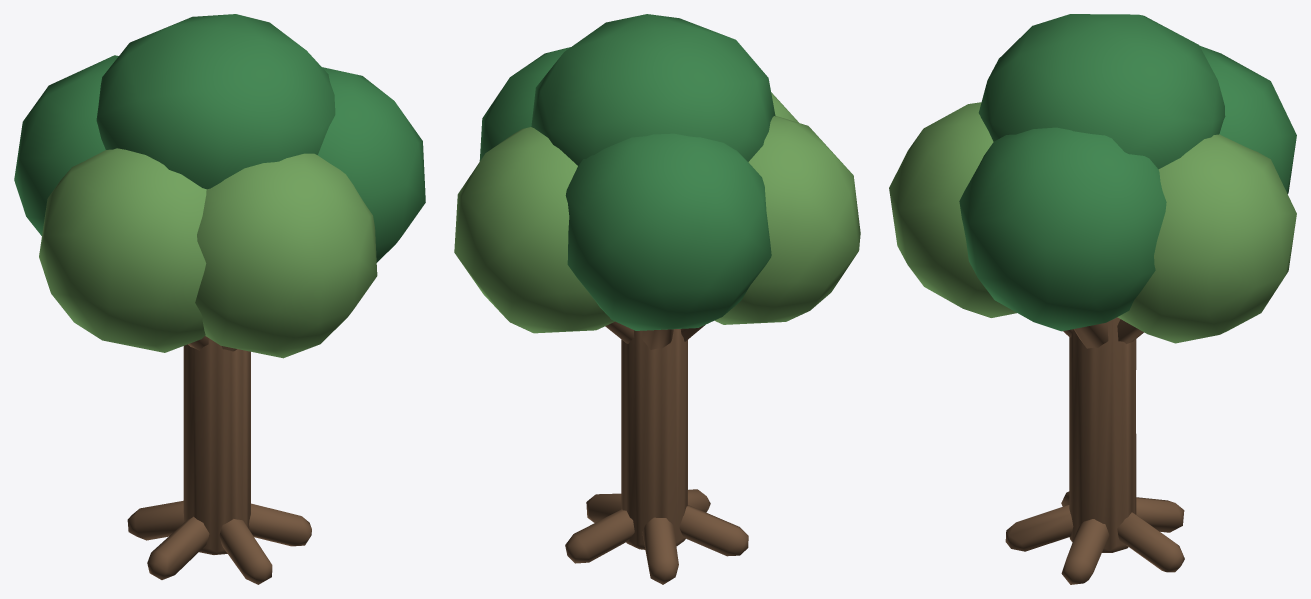
Rendered from org_oak.glb.
3 renders of one model, left to right at view 1: azimuth 30°, elevation 25°; view 2: azimuth 150°, elevation 25°; view 3: azimuth 270°, elevation 25°, orthographic.
Parts seen in each view (by area): view 1: Foliage, Trunk; view 2: Foliage, Trunk; view 3: Foliage, Trunk.
Boxes of the visible parts, <box> form: Foliage: <box>14,14,425,358</box>; Trunk: <box>127,336,311,584</box>; Foliage: <box>454,14,860,333</box>; Trunk: <box>565,321,748,584</box>; Foliage: <box>889,14,1296,343</box>; Trunk: <box>1005,317,1184,584</box>.
Bounding box in the file's own units: 1.7 × 2.4 × 1.68.
